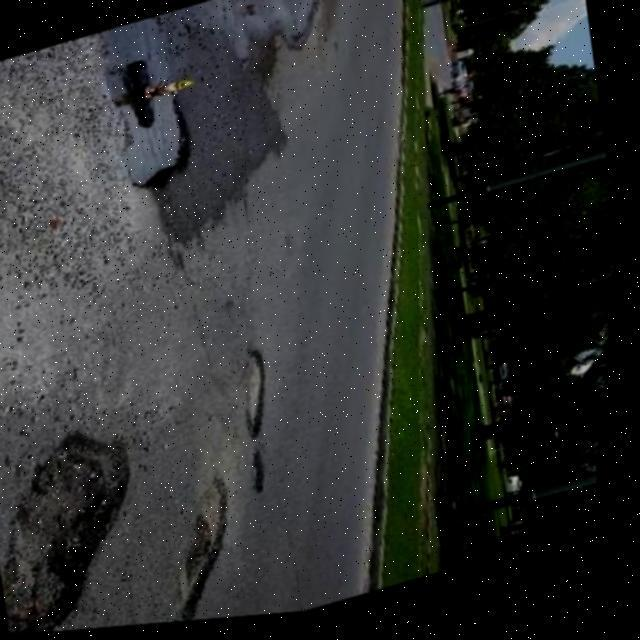pothole: (0, 412, 179, 638), (88, 8, 218, 205), (158, 472, 265, 627), (234, 347, 291, 448), (252, 452, 282, 502)
